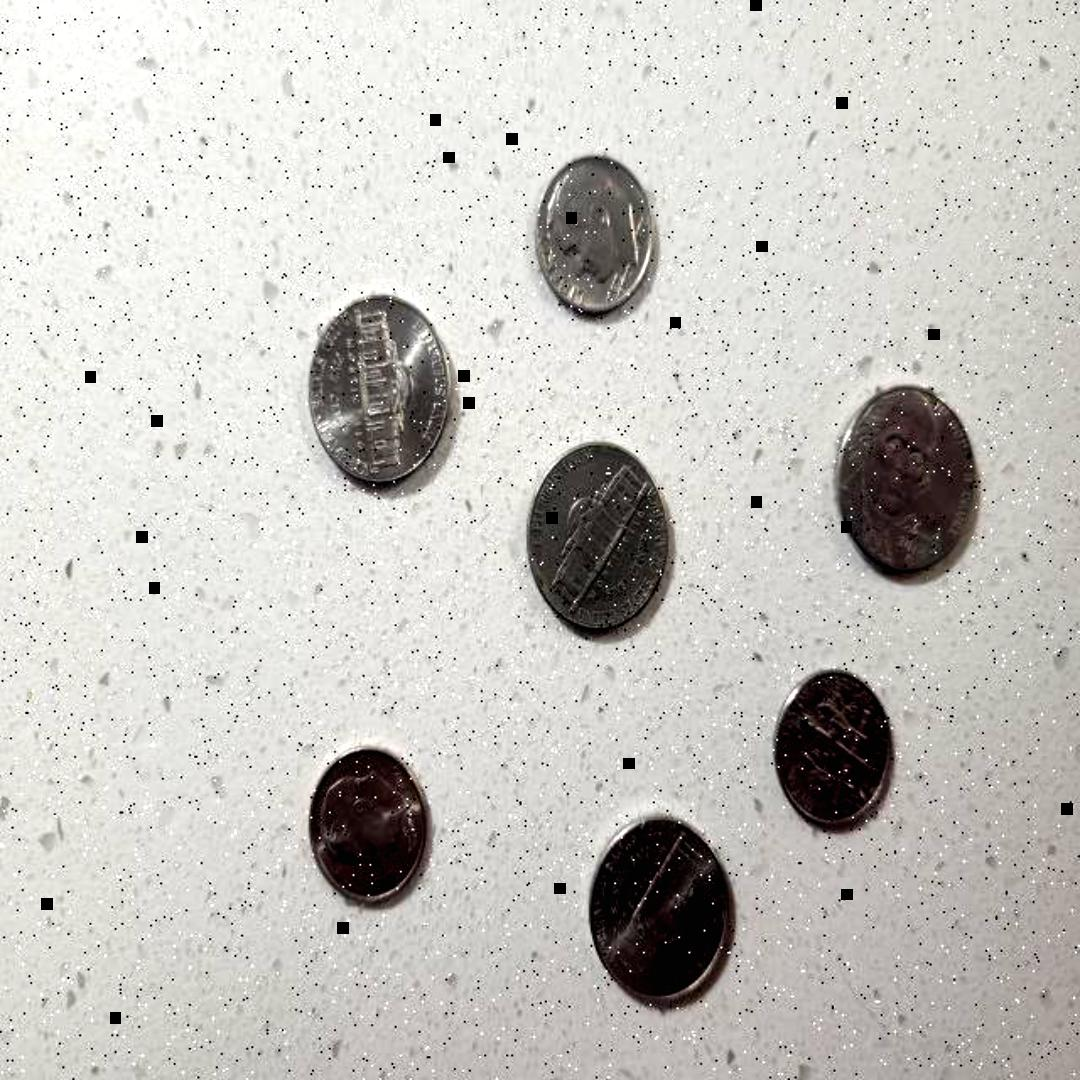Dime: (536, 150, 658, 320), (774, 663, 894, 833), (308, 744, 432, 908)
Nickel: (586, 815, 738, 1015), (304, 290, 454, 490), (835, 380, 981, 580), (528, 439, 672, 638)
